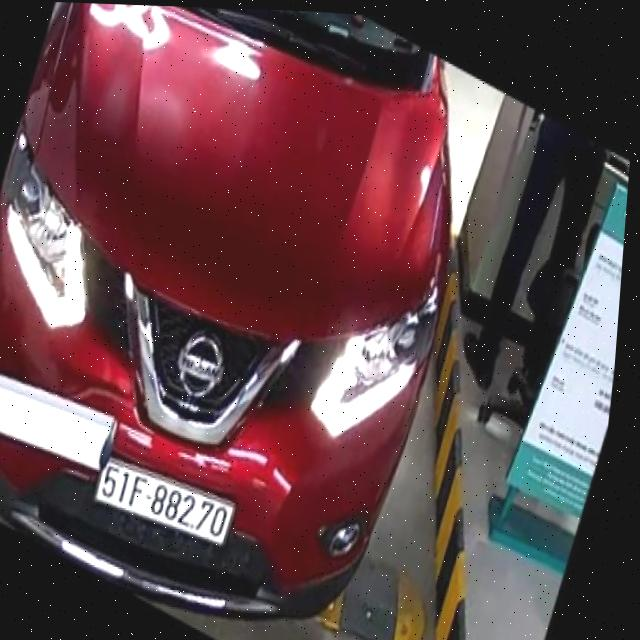car: (0, 0, 485, 637)
plate: (83, 450, 242, 552)
